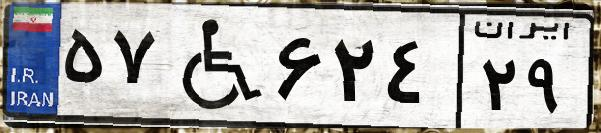2: (330, 28, 385, 110), (475, 38, 525, 113)
4: (385, 28, 445, 110)
5: (57, 26, 110, 100)
6: (270, 28, 330, 110)
7: (110, 28, 158, 98)
9: (525, 38, 570, 115)
ژ (معلولین و جانبازان): (158, 12, 270, 120)
